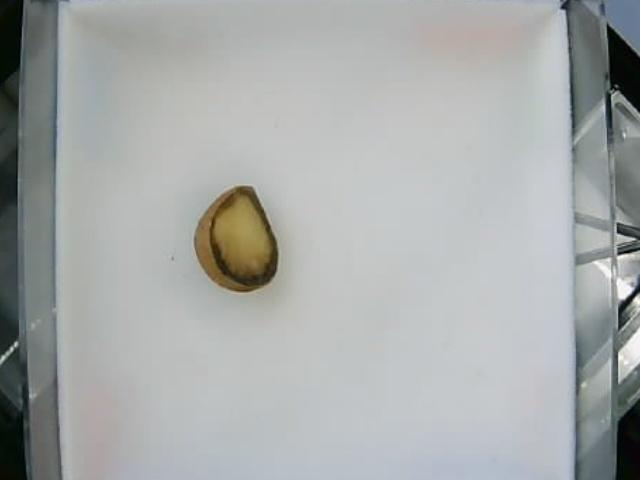Potato: (193, 184, 280, 296)
